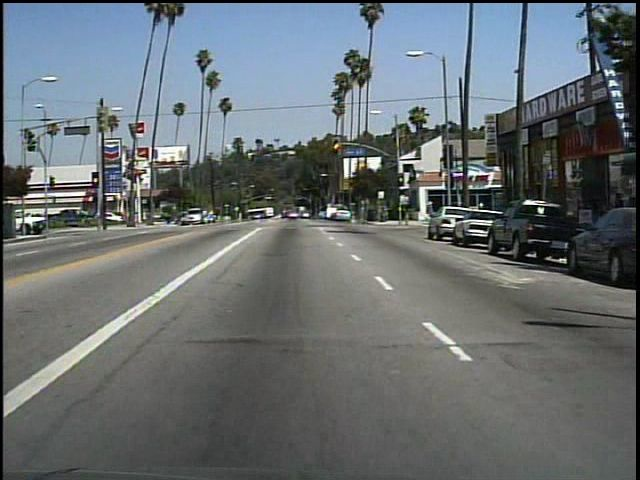person: (419, 196, 440, 223)
